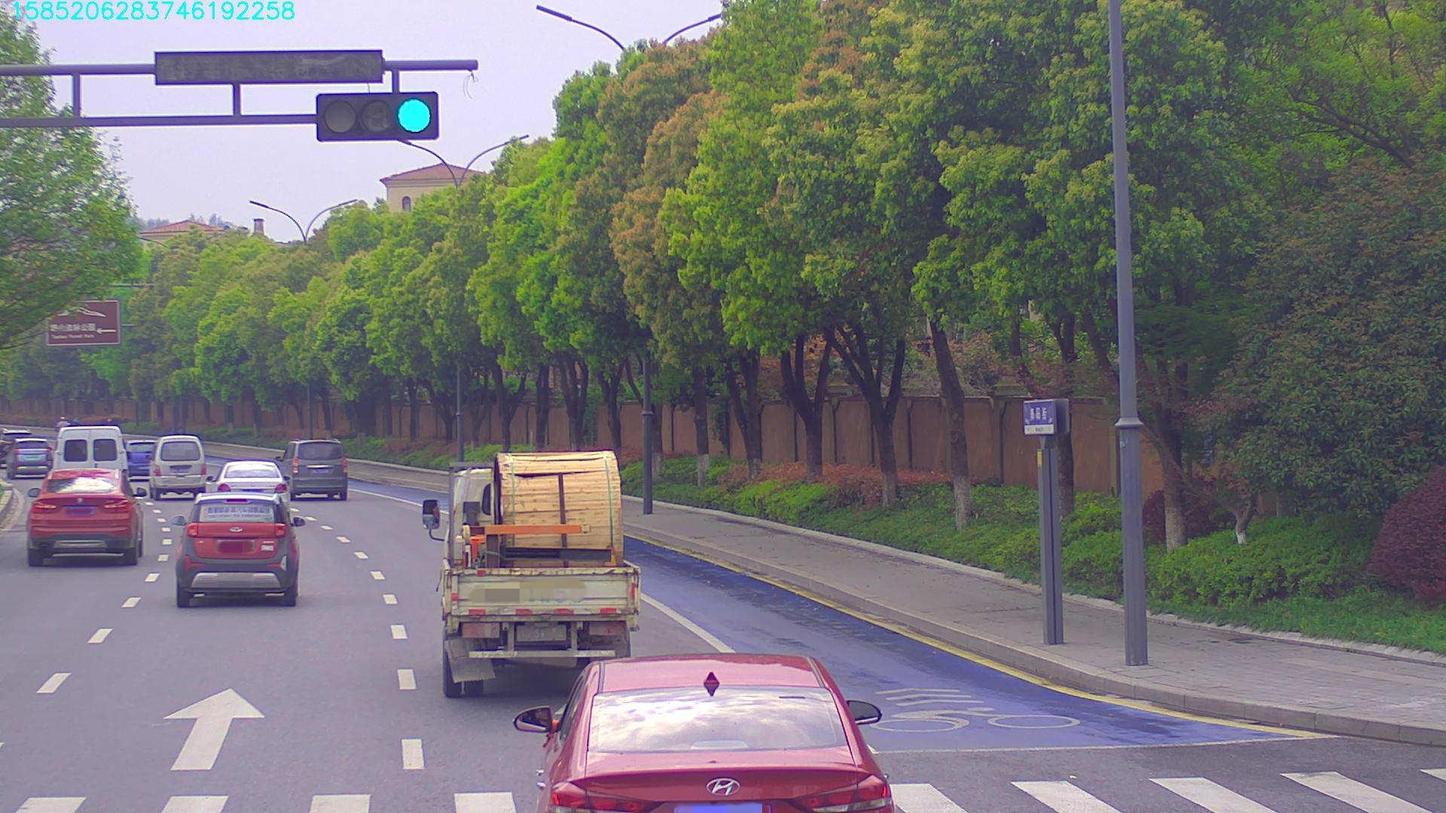green: (299, 90, 432, 138)
